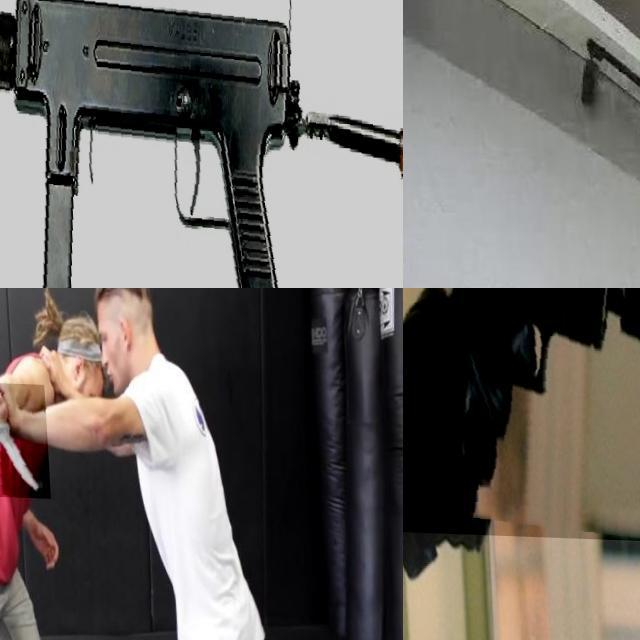-: (0, 380, 47, 496)
gun-knife-thesis - v11 Yolov5 augmented: (0, 0, 403, 288), (403, 288, 640, 542)
